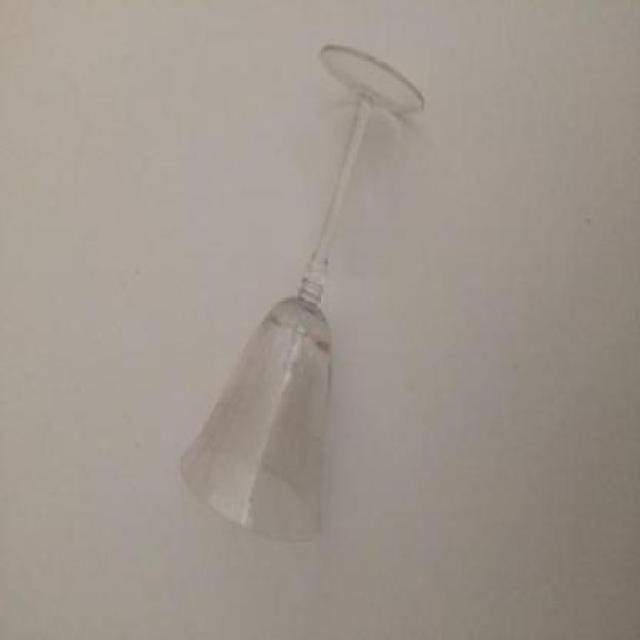kaca: (178, 40, 424, 543)
